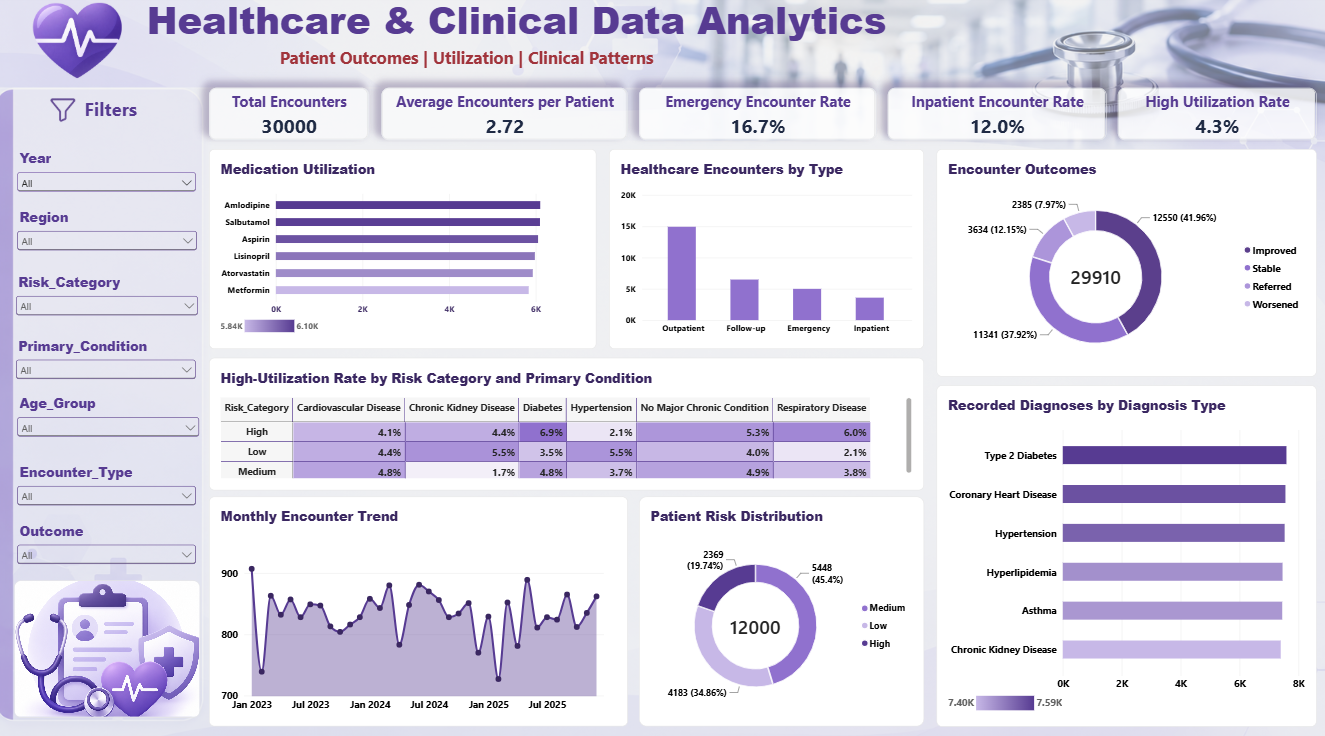

The page's visual inventory and layout, read from the dashboard file:
{"tool":"powerbi","page":{"name":"Page 1","canvas":[1920,1080],"ordinal":0},"visuals":[{"type":"cardVisual","fields":{"Data":["encounters_enriched.Total Encounters"]},"box":[304,135.7,231.6,76],"z":0},{"type":"cardVisual","fields":{"Data":["encounters_enriched.Average Encounters per Patient"]},"box":[553.8,135.7,356.5,76],"z":1000},{"type":"cardVisual","fields":{"Data":["encounters_enriched.Emergency Encounter Rate"]},"box":[926.5,135.7,343.8,76],"z":2000},{"type":"cardVisual","fields":{"Data":["encounters_enriched.Inpatient Encounter Rate"]},"box":[1286.7,135.7,316.7,76],"z":3000},{"type":"cardVisual","fields":{"Data":["encounters_enriched.High Utilization Rate"]},"box":[1619.6,135.7,287.7,76],"z":4000},{"type":"textbox","box":[141.2,0,1216.1,76],"z":5000},{"type":"textbox","box":[177.3,76,998.9,39.8],"z":6000},{"type":"donutChart","title":"Patient Risk Distribution","fields":{"Category":["patients.Risk_Category"],"Y":["Count(patients.Patient_ID)"]},"box":[926.5,727.5,412.6,333],"z":7000},{"type":"clusteredColumnChart","title":"Healthcare Encounters by Type","fields":{"Category":["encounters_enriched.Encounter_Type"],"Y":["CountNonNull(encounters_enriched.Encounter_ID)"]},"box":[883.1,224.4,456,289.5],"z":8000},{"type":"donutChart","title":"Encounter Outcomes","fields":{"Category":["encounters_enriched.Outcome"],"Y":["CountNonNull(encounters_enriched.Encounter_ID)"]},"box":[1357.2,224.4,550.1,329.4],"z":9000},{"type":"pivotTable","title":"High-Utilization Rate by Risk Category and Primary Condition","fields":{"Columns":["encounters_enriched.Primary_Condition"],"Rows":["encounters_enriched.Risk_Category"],"Values":["encounters_enriched.High Utilization Rate"]},"box":[304,526.6,1035.1,191.8],"z":10000},{"type":"lineChart","title":"Monthly Encounter Trend","fields":{"Category":["encounters_enriched.Encounter_Date.Variation.Date Hierarchy.Year","encounters_enriched.Encounter_Date.Variation.Date Hierarchy.Month"],"Y":["CountNonNull(encounters_enriched.Encounter_ID)"]},"box":[304,727.5,606.2,333],"z":11000},{"type":"clusteredBarChart","title":"Recorded Diagnoses by Diagnosis Type","fields":{"Category":["diagnoses.Diagnosis_Name"],"Y":["Count(diagnoses.Diagnosis_ID)"]},"box":[1357.2,566.4,550.1,494],"z":12000},{"type":"clusteredBarChart","title":"Medication Utilization","fields":{"Category":["medications.Medication_Name"],"Y":["CountNonNull(medications.Medication_ID)"]},"box":[304,224.4,561,289.5],"z":13000},{"type":"slicer","fields":{"Values":["encounters_enriched.Encounter_Date.Variation.Date Hierarchy.Year"]},"box":[21.7,224.4,267.8,63.3],"z":14000},{"type":"slicer","fields":{"Values":["patients.Region"]},"box":[21.7,309.5,269.6,79.6],"z":15000},{"type":"slicer","fields":{"Values":["patients.Risk_Category"]},"box":[19.9,403.6,273.3,61.5],"z":16000},{"type":"slicer","fields":{"Values":["patients.Primary_Condition"]},"box":[19.9,495.8,269.6,70.6],"z":17000},{"type":"slicer","fields":{"Values":["patients.Age_Group"]},"box":[21.7,579.1,273.3,67],"z":18000},{"type":"slicer","fields":{"Values":["encounters_enriched.Encounter_Type"]},"box":[21.7,678.6,267.8,65.1],"z":19000},{"type":"slicer","fields":{"Values":["encounters_enriched.Outcome"]},"box":[21.7,763.7,267.8,85.1],"z":20000},{"type":"textbox","box":[92.3,148.4,139.3,56.1],"z":21000},{"type":"image","box":[48.9,130.3,86.9,74.2],"z":22000},{"type":"image","box":[21.7,848.7,269.6,199.1],"z":23000},{"type":"image","box":[48.9,0,128.5,135.7],"z":24000}]}

Visuals, with their boxes in screenshot pixels (x1, y1, x2, y2), scaled from the page's 1920x1080 canvas onto the 1325x736 screenshot:
cardVisual - encounters_enriched.Total Encounters: 210/92/370/144
cardVisual - encounters_enriched.Average Encounters per Patient: 382/92/628/144
cardVisual - encounters_enriched.Emergency Encounter Rate: 639/92/877/144
cardVisual - encounters_enriched.Inpatient Encounter Rate: 888/92/1107/144
cardVisual - encounters_enriched.High Utilization Rate: 1118/92/1316/144
textbox: 97/0/937/52
textbox: 122/52/812/79
"Patient Risk Distribution" donutChart: 639/496/924/723
"Healthcare Encounters by Type" clusteredColumnChart: 609/153/924/350
"Encounter Outcomes" donutChart: 937/153/1316/377
"High-Utilization Rate by Risk Category and Primary Condition" pivotTable: 210/359/924/490
"Monthly Encounter Trend" lineChart: 210/496/628/723
"Recorded Diagnoses by Diagnosis Type" clusteredBarChart: 937/386/1316/723
"Medication Utilization" clusteredBarChart: 210/153/597/350
slicer - encounters_enriched.Encounter_Date.Variation.Date Hierarchy.Year: 15/153/200/196
slicer - patients.Region: 15/211/201/265
slicer - patients.Risk_Category: 14/275/202/317
slicer - patients.Primary_Condition: 14/338/200/386
slicer - patients.Age_Group: 15/395/204/440
slicer - encounters_enriched.Encounter_Type: 15/462/200/507
slicer - encounters_enriched.Outcome: 15/520/200/578
textbox: 64/101/160/139
image: 34/89/94/139
image: 15/578/201/714
image: 34/0/122/92
